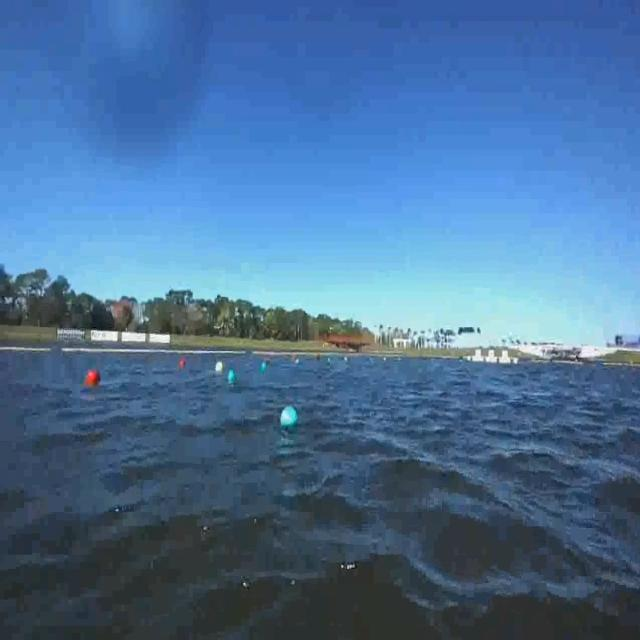green-buoy: (280, 406, 298, 432), (227, 368, 236, 382)
red-buoy: (87, 370, 102, 389), (182, 358, 188, 370)
